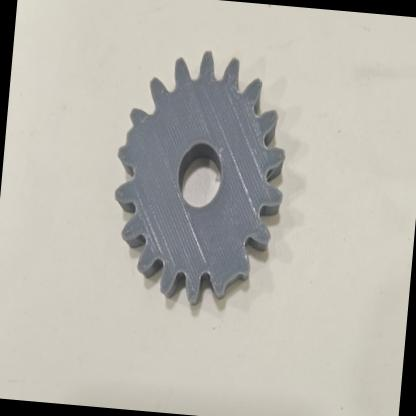defect: (102, 86, 156, 192), (197, 245, 268, 322)
gear: (61, 28, 334, 350)
